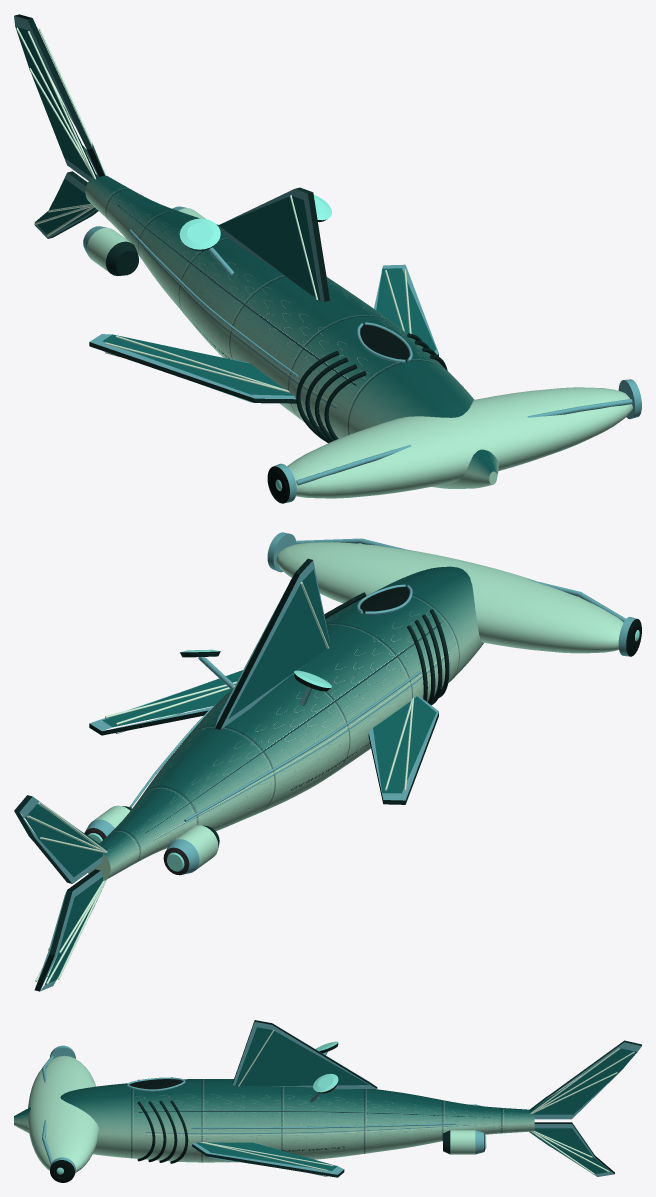
The picture shows the model from 3 angles, top to bottom: view 1: azimuth 30°, elevation 25°; view 2: azimuth 150°, elevation 25°; view 3: azimuth 270°, elevation 25°; orthographic projection. The views are drawn at different scales.
Parts seen in each view (by area): view 1: hammerhead_hull; view 2: hammerhead_hull; view 3: hammerhead_hull.
Part boxes in pixels (x1=…): hammerhead_hull: x1=14, y1=14, x2=641, y2=503; hammerhead_hull: x1=14, y1=532, x2=641, y2=991; hammerhead_hull: x1=14, y1=1020, x2=641, y2=1182.
Size of the model in its own units: 119 by 74.23 by 272.
1 material, 1 textured.
